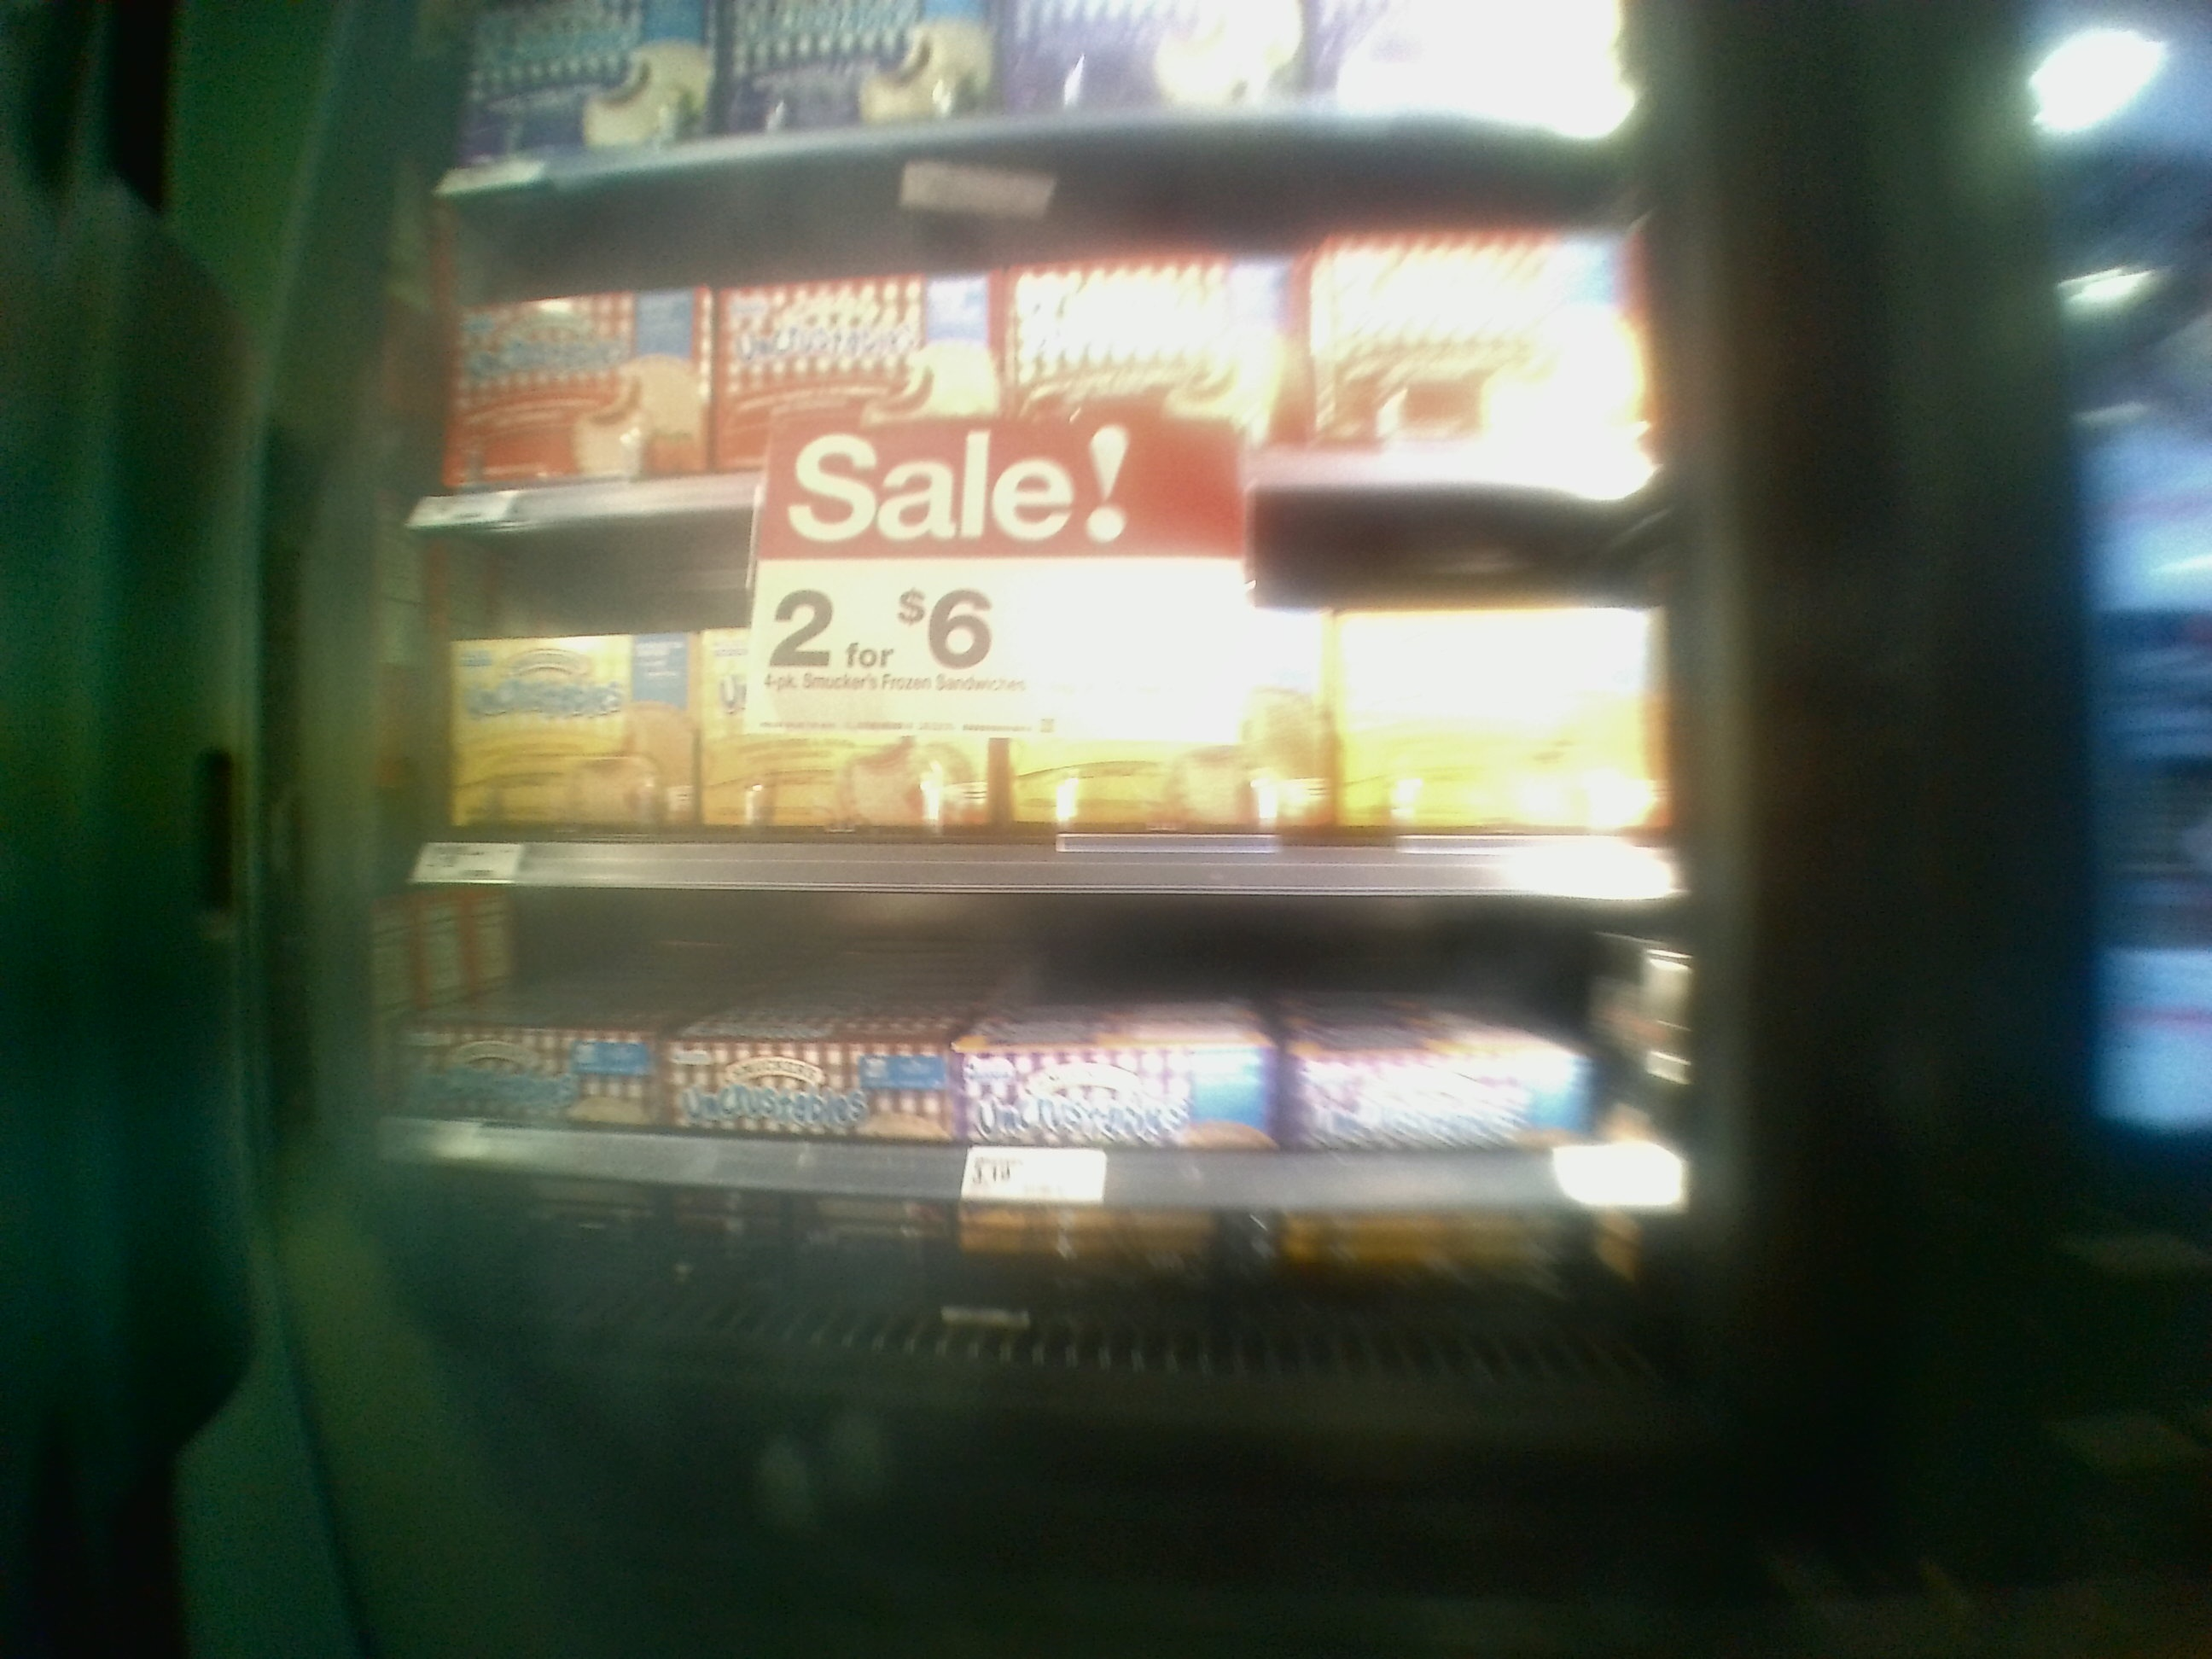shelf: (376, 885, 1698, 1370), (402, 525, 1644, 904), (432, 200, 1625, 525)
